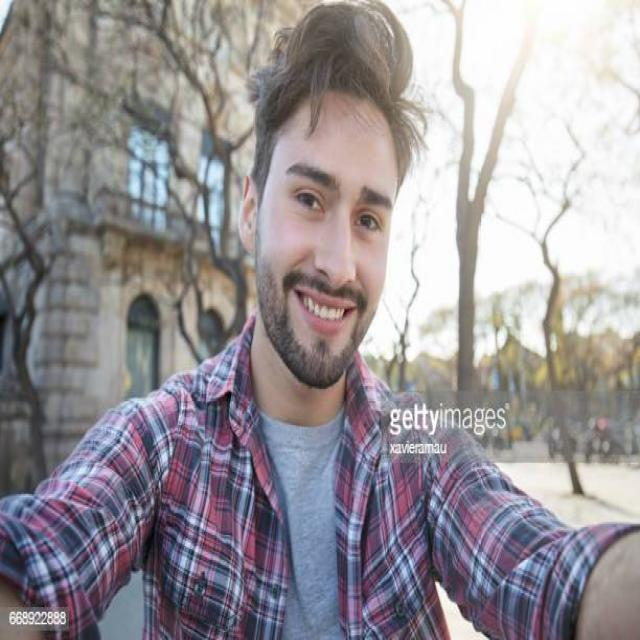earlobe: (240, 220, 253, 253)
eye: (295, 188, 325, 215), (353, 211, 383, 234)
nose: (315, 268, 356, 310)
wholeear: (239, 174, 256, 253)
